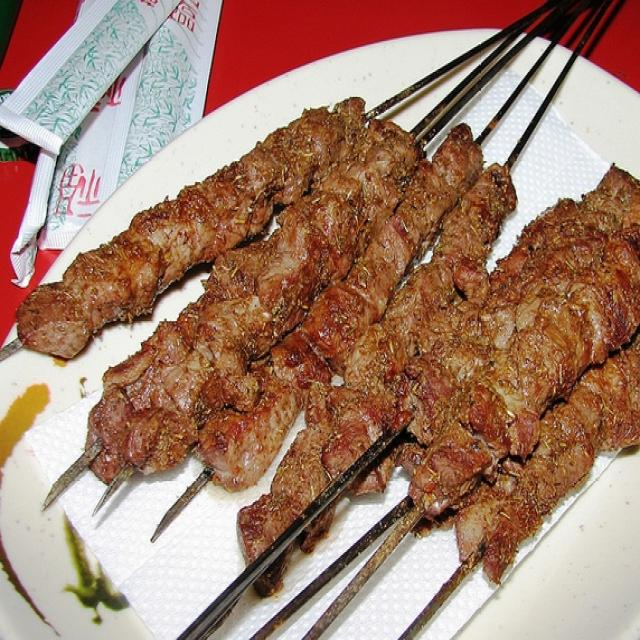烧串烤肉: (9, 37, 623, 618)
